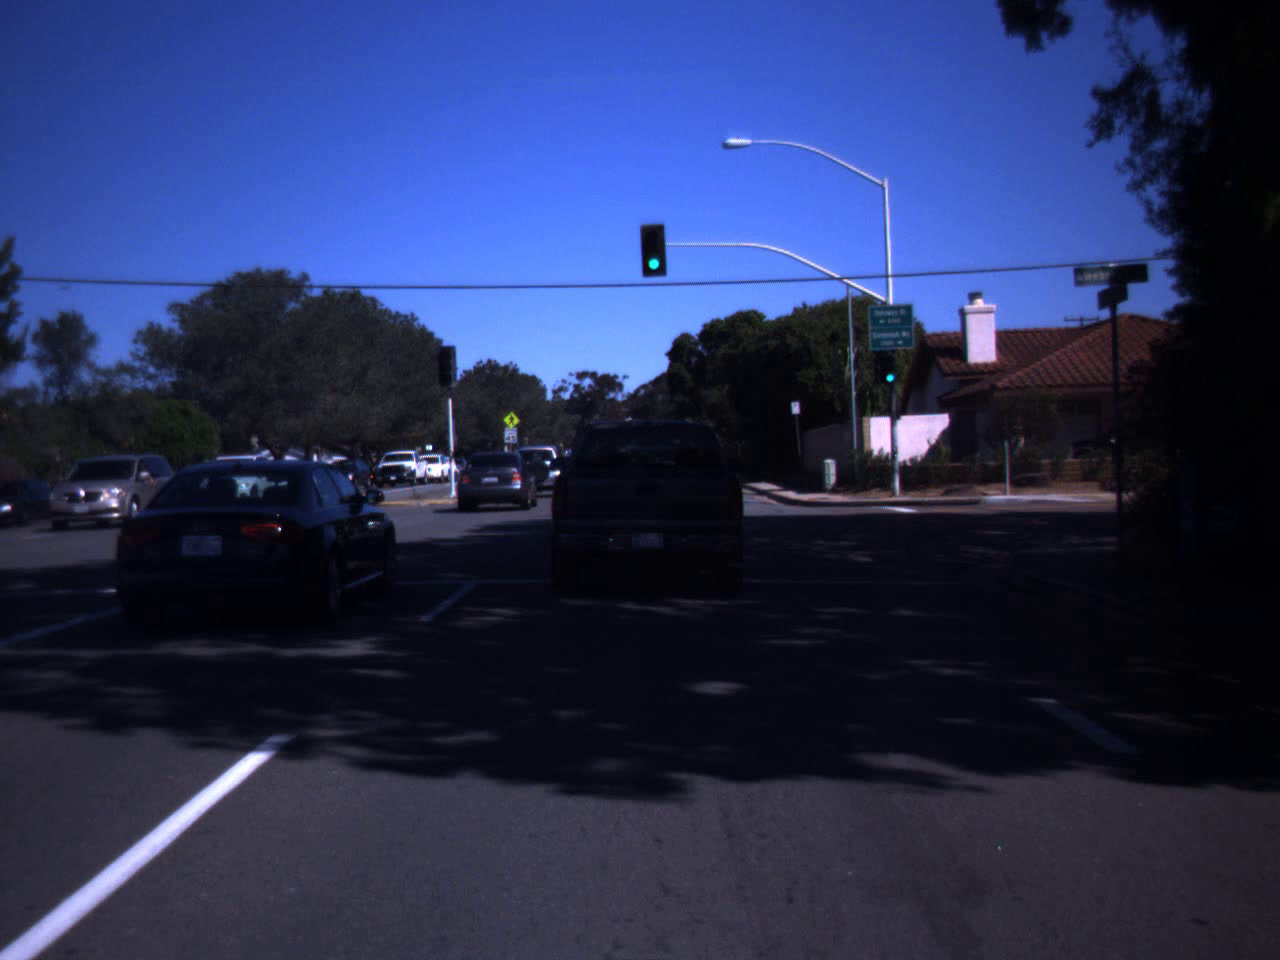go: (642, 234, 666, 274), (881, 358, 899, 383)
